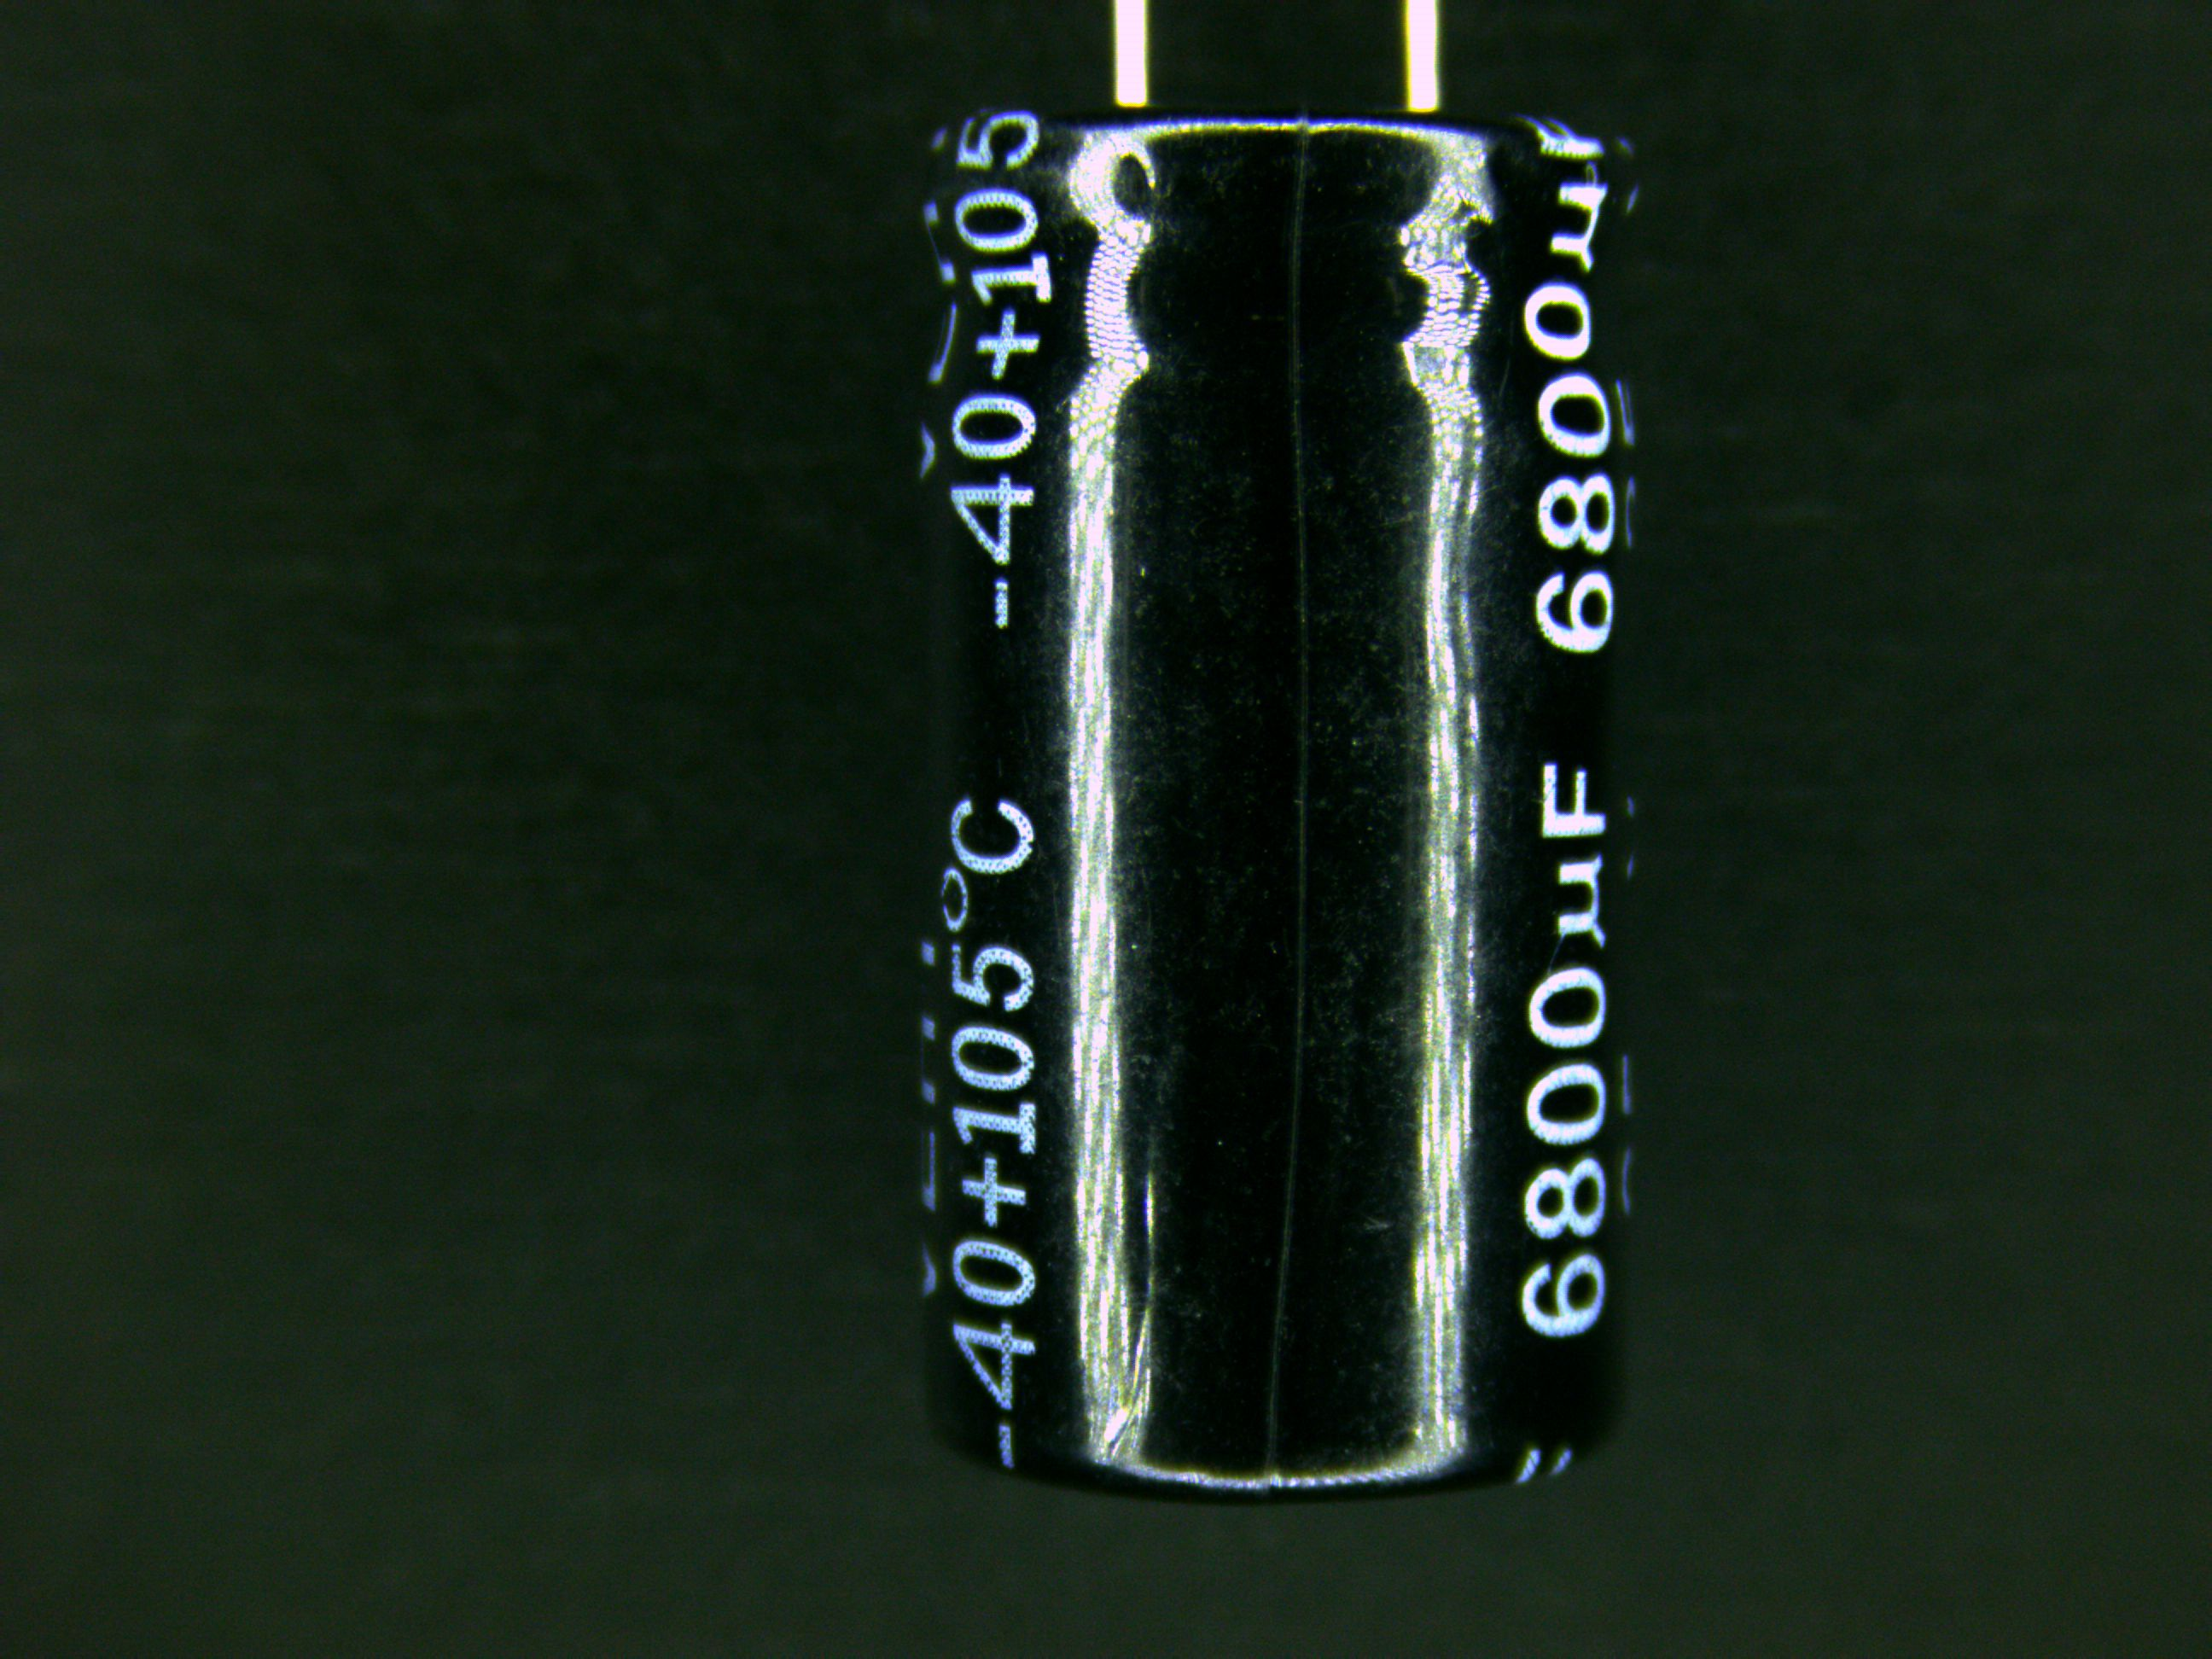c3: (907, 26, 1648, 1502)
